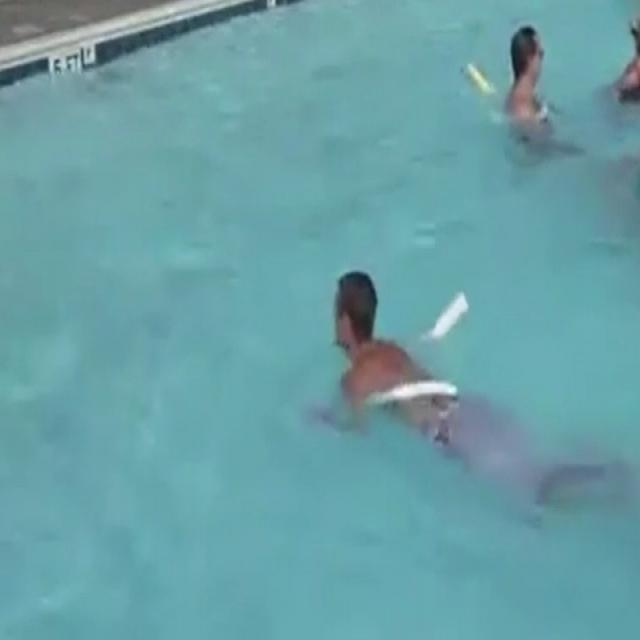swimming: (310, 266, 631, 526), (453, 18, 573, 145)
